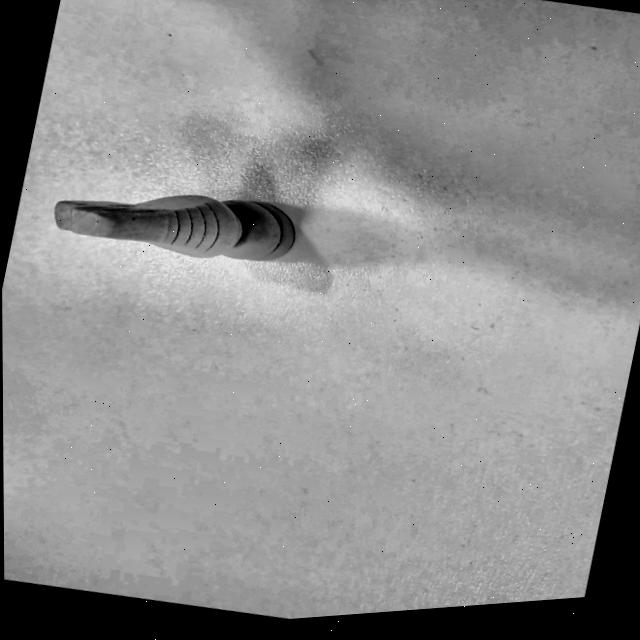white-knight: (20, 126, 328, 309)
